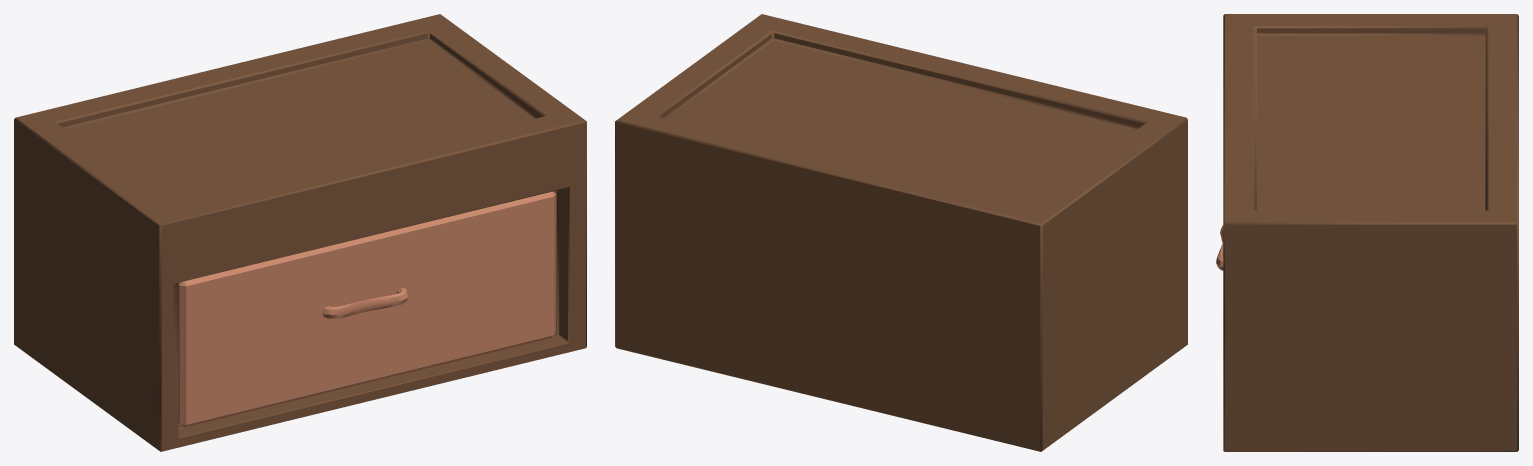
The model's file is Top Single Cabinet Frame.fbx.
The picture shows the model from 3 angles, left to right: view 1: azimuth 30°, elevation 25°; view 2: azimuth 150°, elevation 25°; view 3: azimuth 270°, elevation 25°; orthographic projection.
Visible parts, largest first — view 1: Top Single Cabinet Frame, Single Top Cabinet; view 2: Top Single Cabinet Frame; view 3: Top Single Cabinet Frame.
Boxes of the visible parts, x1,y1,x2,y2 form: Top Single Cabinet Frame: (14, 14, 586, 451); Single Top Cabinet: (178, 191, 555, 427); Top Single Cabinet Frame: (615, 14, 1187, 451); Top Single Cabinet Frame: (1223, 14, 1518, 451).
Bounding box in the file's own units: 58.54 × 96.05 × 48.97.
